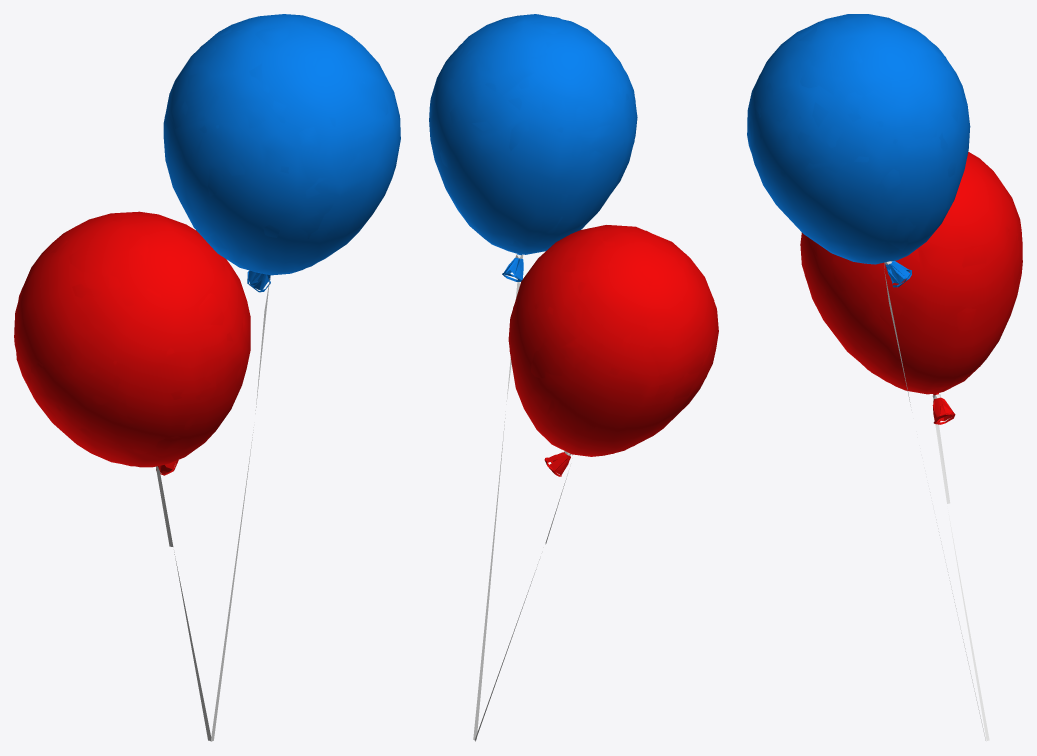
Rendered from balloons.FBX.
3 renders of one model, left to right at view 1: azimuth 30°, elevation 25°; view 2: azimuth 150°, elevation 25°; view 3: azimuth 270°, elevation 25°, orthographic. The views are drawn at different scales.
Parts seen in each view (by area): view 1: balloons; view 2: balloons; view 3: balloons.
Part boxes in pixels (box(x1,y1,x2,y2)): balloons: box(14, 14, 400, 741); balloons: box(429, 14, 718, 741); balloons: box(747, 14, 1022, 740).
Size of the model in its own units: 53.24 by 119 by 41.5.
1 material, 1 textured.
